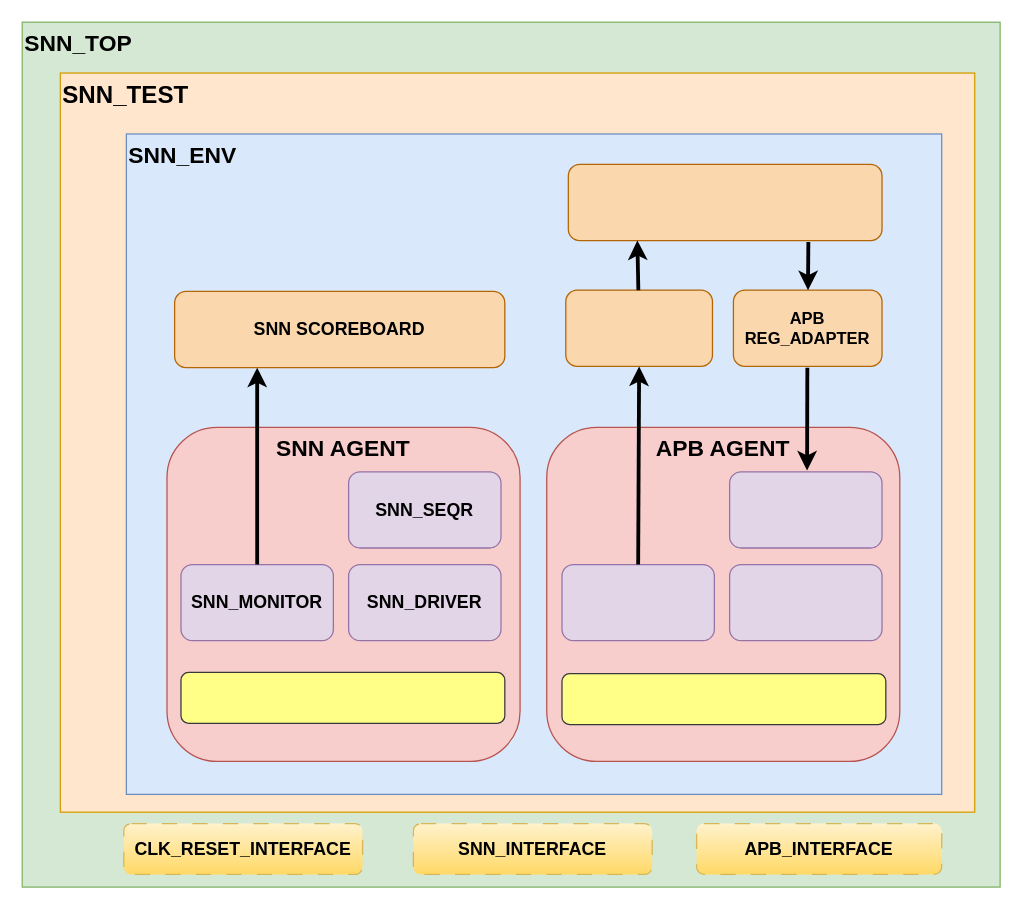
The diagram is 1022 pixels wide and 909 high, and some of its shapes have lost their labels. Each missing label, with the box of its shape:
APB REG_PREDICTOR: (565, 289, 712, 366)
APB_DRIVER: (728, 563, 882, 641)
APB_MONITOR: (561, 563, 714, 641)
APB_SEQR: (728, 471, 882, 548)
SNN RAL MODEL: (567, 163, 882, 241)
VIRTUAL APB_INTERFACE: (561, 672, 886, 725)
VIRTUAL SNN_INTERFACE: (180, 671, 505, 723)
